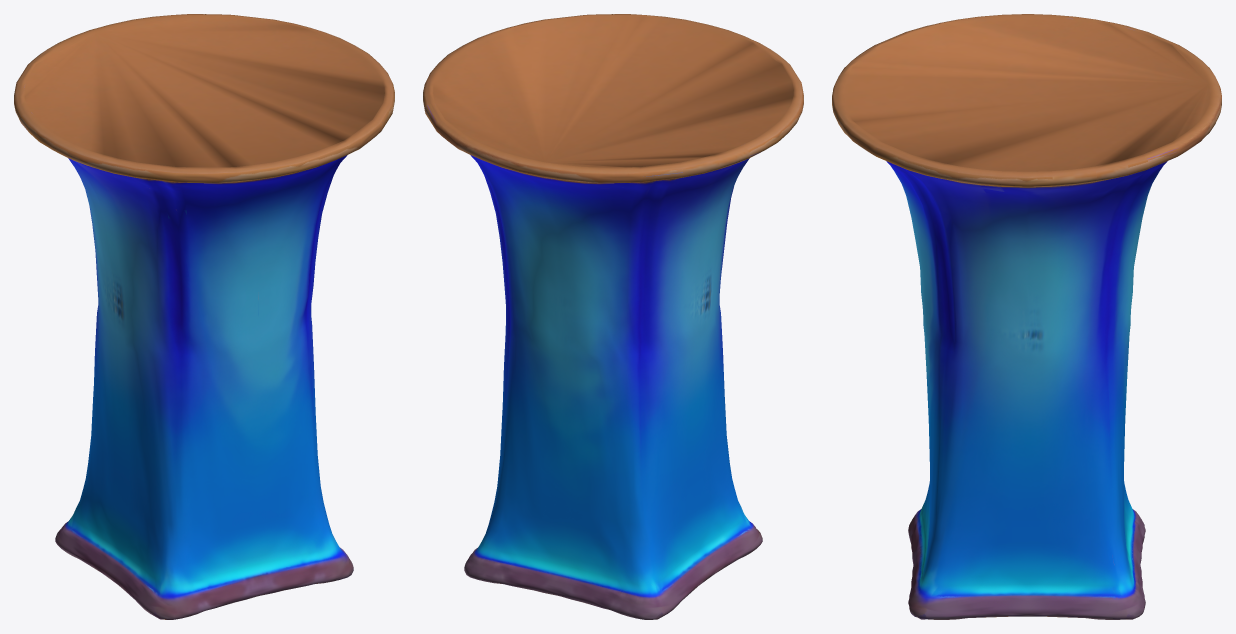
The model's file is luminous_cocktail_tab_0127182240_texture.glb.
3 renders of one model, left to right at view 1: azimuth 30°, elevation 25°; view 2: azimuth 150°, elevation 25°; view 3: azimuth 270°, elevation 25°, orthographic. The views are drawn at different scales.
Visible parts, largest first — view 1: Mesh_0; view 2: Mesh_0; view 3: Mesh_0.
Boxes of the visible parts, <box> form: Mesh_0: <box>14,14,394,619</box>; Mesh_0: <box>423,14,803,619</box>; Mesh_0: <box>832,14,1221,619</box>.
Size of the model in its own units: 0.7864 by 1.07 by 0.7864.
1 material, 1 textured.
